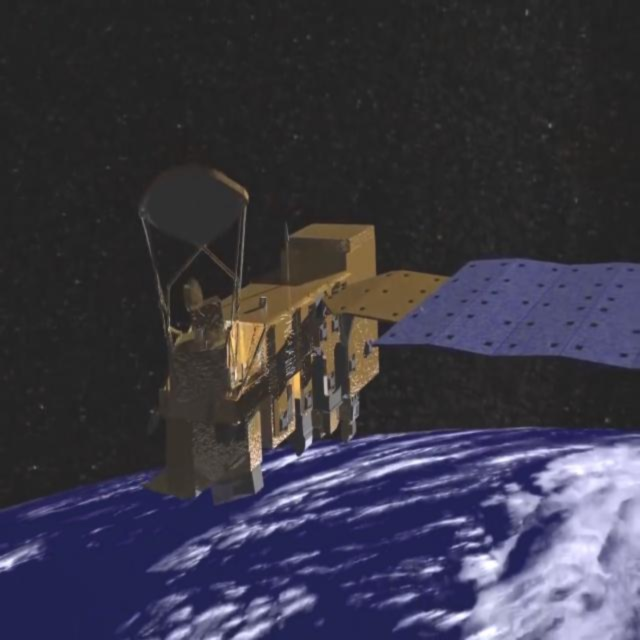satellite: (0, 122, 640, 539)
